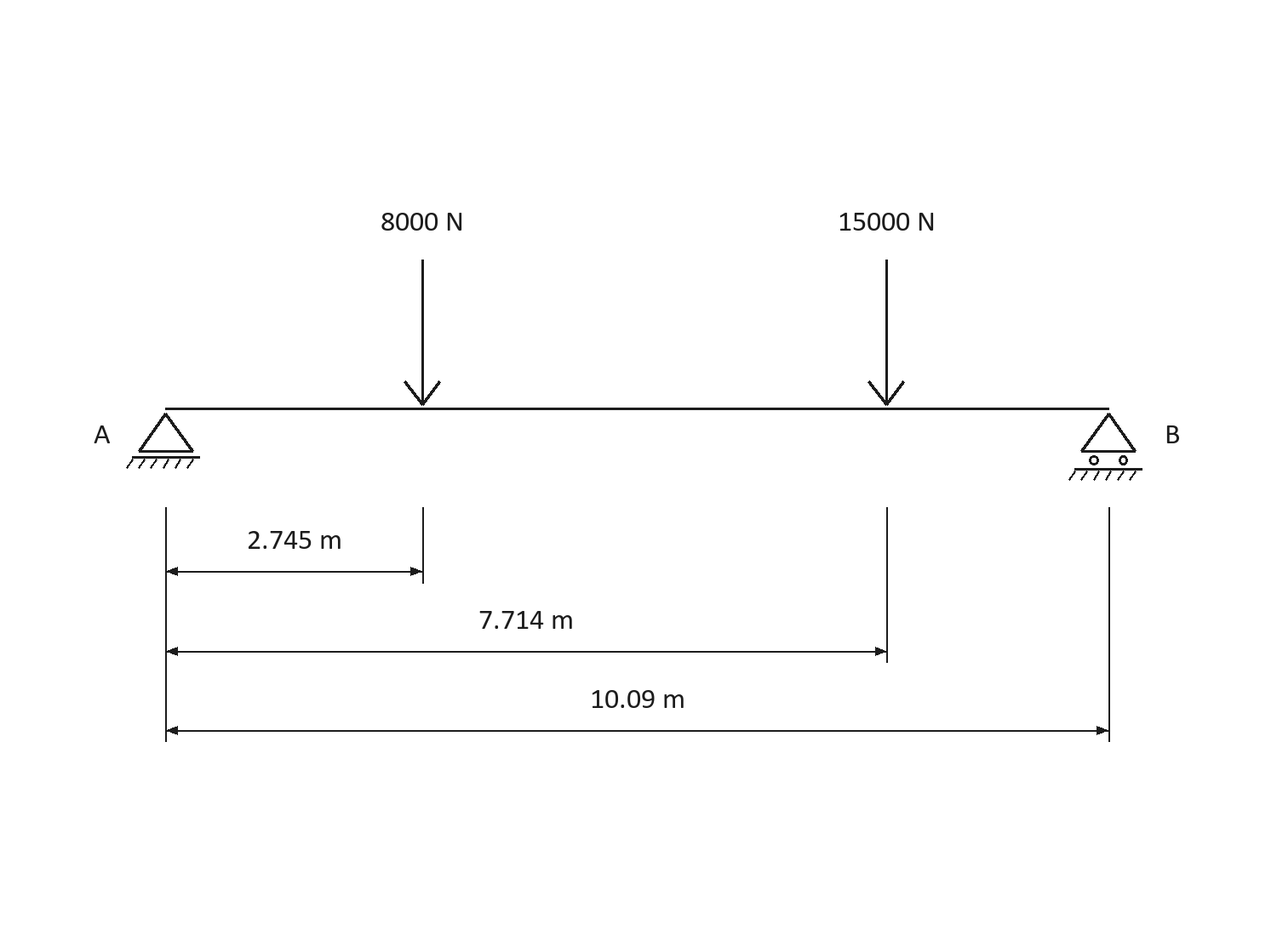pin_support: (126, 413, 200, 469)
point_load: (404, 260, 441, 406), (868, 260, 905, 406)
roller_support: (1068, 413, 1142, 481)
